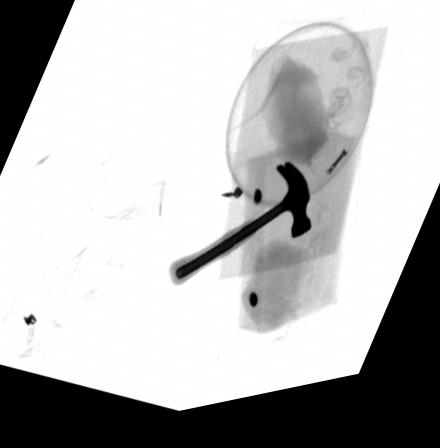Hammer: (167, 173, 312, 293)
